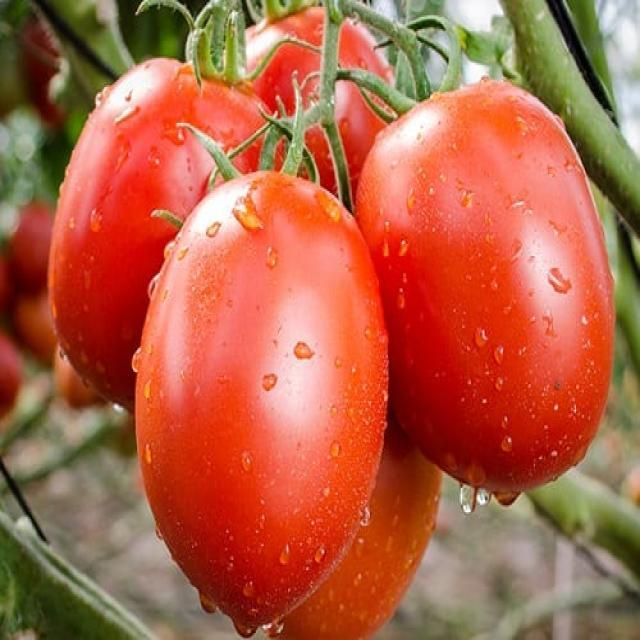kirmizi: (110, 132, 452, 640)
